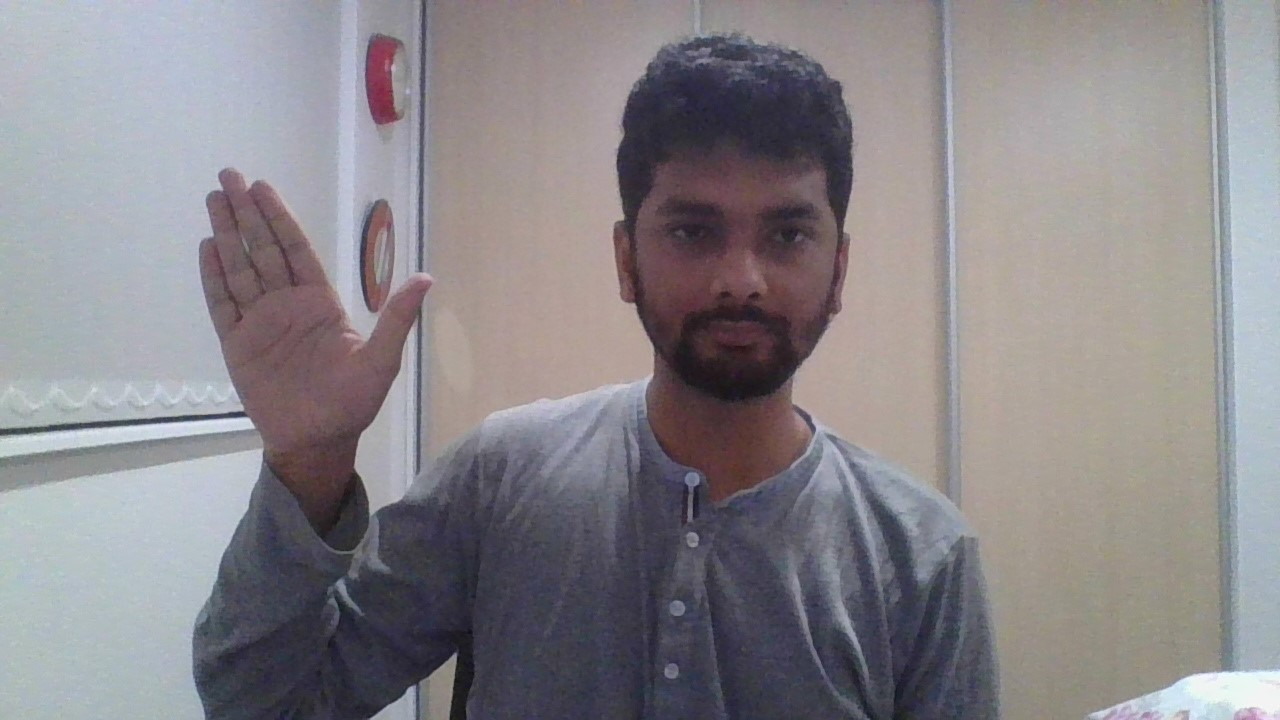hello: (198, 167, 436, 452)
